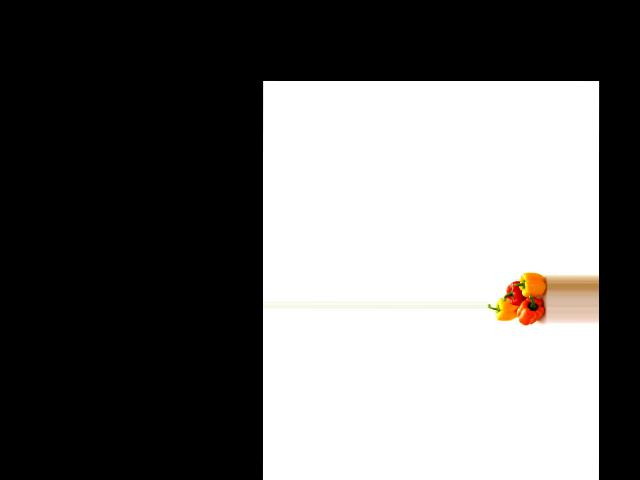bell_pepper: (514, 271, 546, 304)
